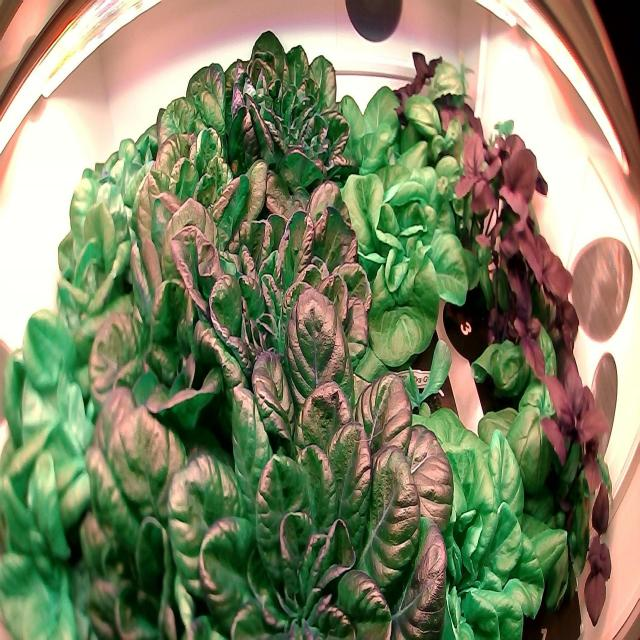Ready: (163, 322, 461, 640), (168, 128, 375, 448), (87, 140, 280, 440), (66, 367, 256, 640), (394, 410, 553, 640), (0, 298, 98, 640), (331, 165, 476, 362), (142, 31, 272, 248), (226, 24, 358, 223), (333, 74, 446, 211), (51, 159, 120, 330), (80, 115, 148, 247)
young: (377, 323, 474, 435)
